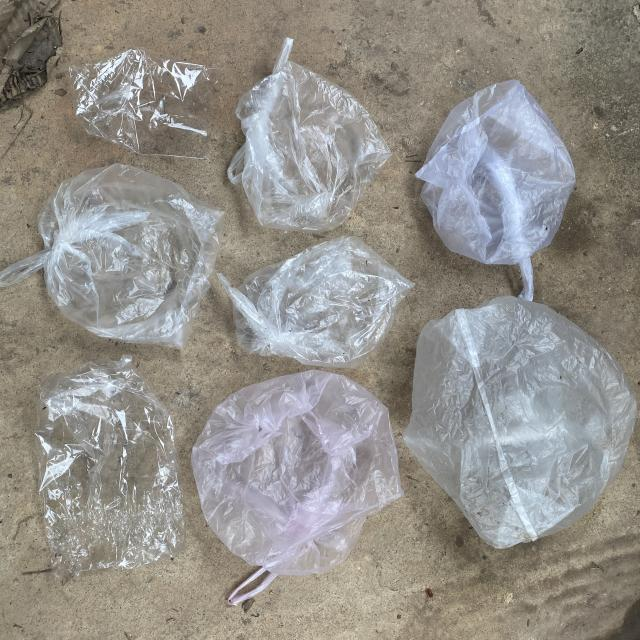Single-layer Plastic: (404, 296, 638, 549), (191, 370, 402, 605), (0, 164, 224, 349), (416, 80, 575, 301), (35, 356, 185, 579), (228, 38, 391, 231), (218, 236, 414, 368), (70, 48, 218, 159)
